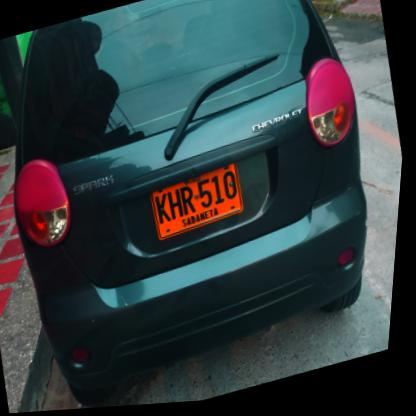placa: (144, 163, 254, 249)
